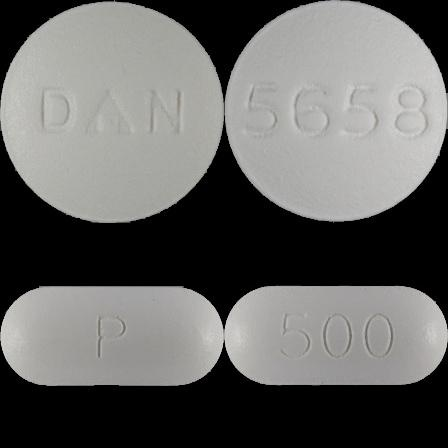10544-072: (0, 0, 224, 224)
